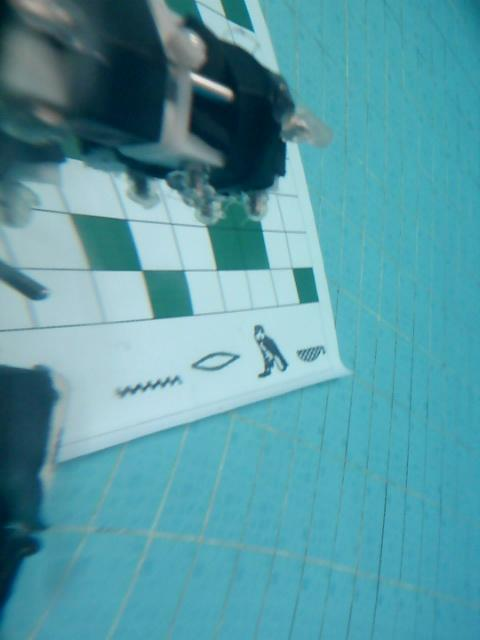Basket: (292, 343, 332, 365)
Mouth: (191, 350, 244, 374)
Owl: (242, 321, 293, 386)
Water: (108, 373, 190, 402)
